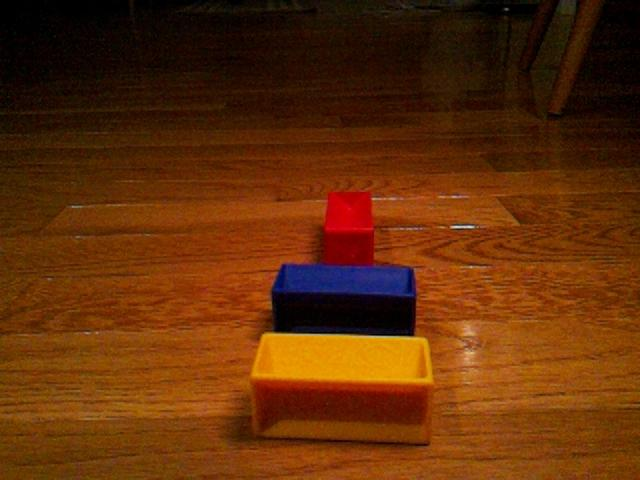blue: (270, 261, 418, 336)
red: (322, 189, 376, 266)
yellow: (249, 330, 435, 446)
